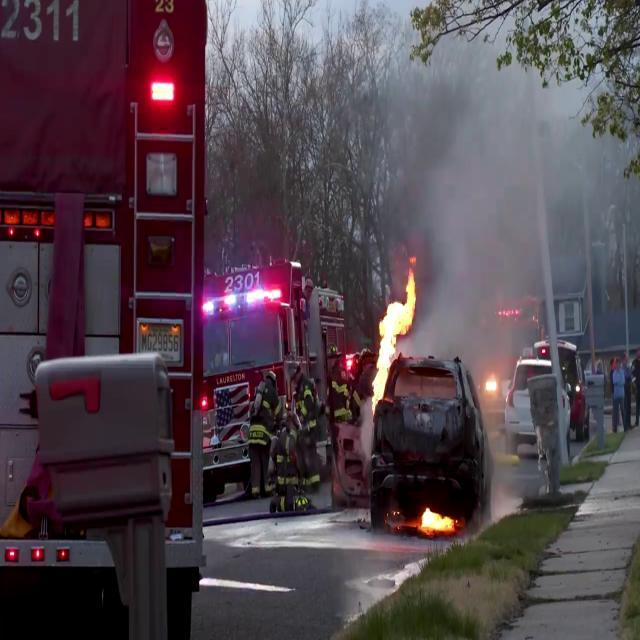Fire: (368, 259, 416, 409), (369, 284, 408, 409), (417, 501, 455, 538)
Smoke: (367, 17, 640, 374)
